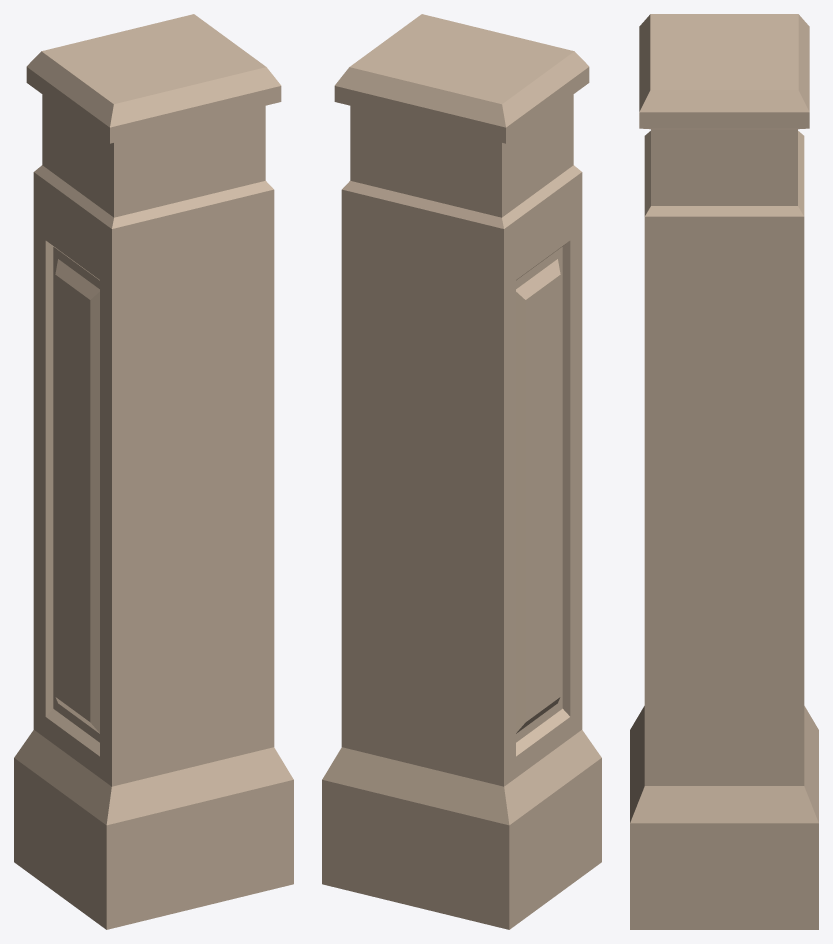
Rendered from BC_Pillar_H.fbx.
The picture shows the model from 3 angles, left to right: view 1: azimuth 30°, elevation 25°; view 2: azimuth 150°, elevation 25°; view 3: azimuth 270°, elevation 25°; orthographic projection. The views are drawn at different scales.
Visible parts, largest first — view 1: BC_Pillar_H; view 2: BC_Pillar_H; view 3: BC_Pillar_H.
Part boxes in pixels (x1,y1,x2,y2): BC_Pillar_H: [14, 14, 293, 929]; BC_Pillar_H: [322, 14, 601, 929]; BC_Pillar_H: [630, 14, 818, 929].
Bounding box in the file's own units: 166 × 690 × 142.
